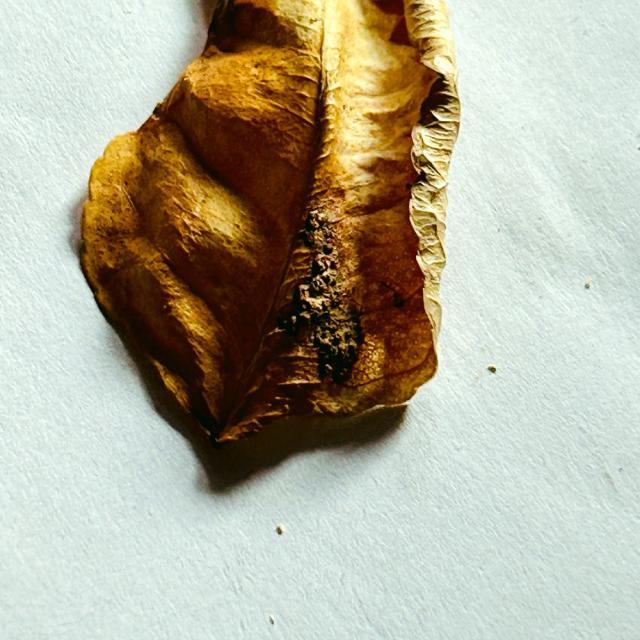DryLeaf_Lemon: (81, 0, 460, 442)
